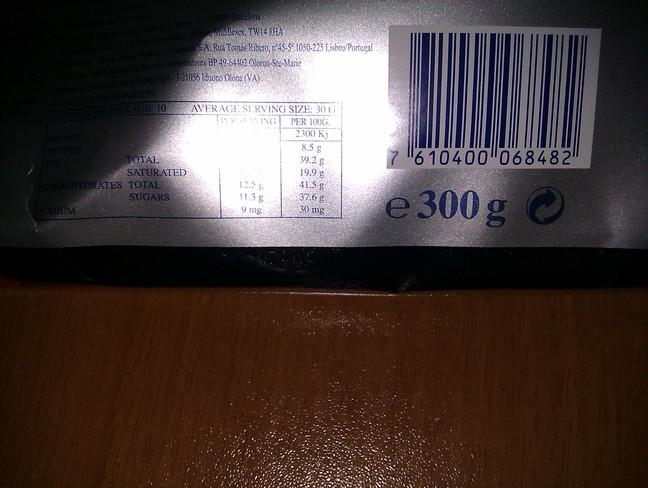Barkod: (387, 26, 598, 167)
